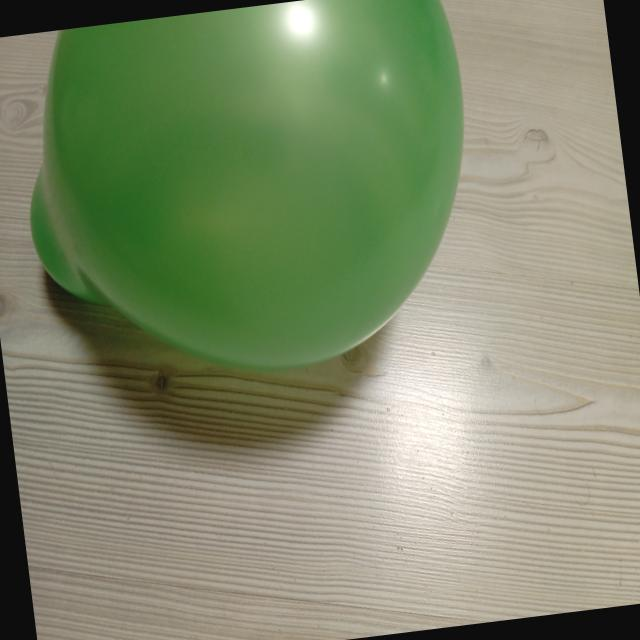balloon: (30, 0, 463, 369)
